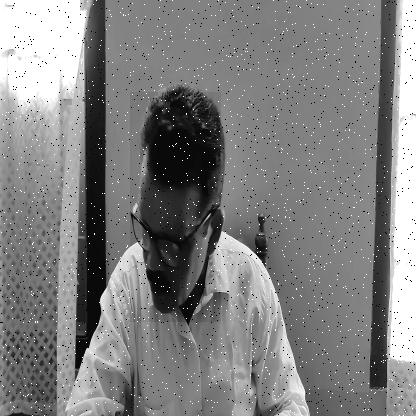Distracted: (130, 92, 221, 322)
